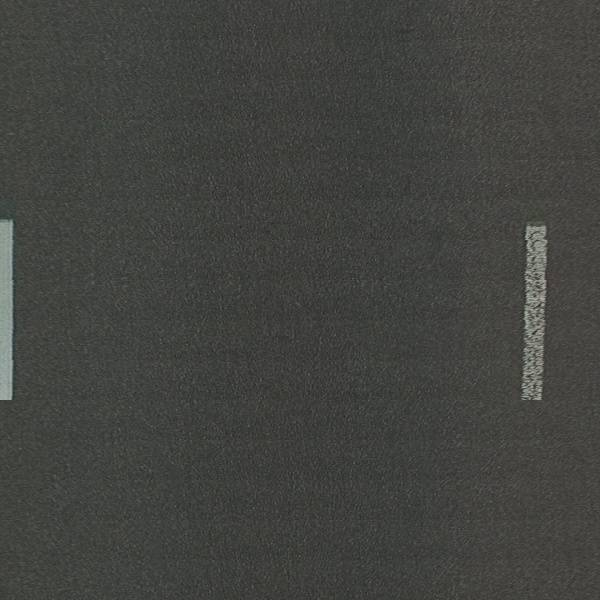road_damage: (526, 230, 543, 400)
